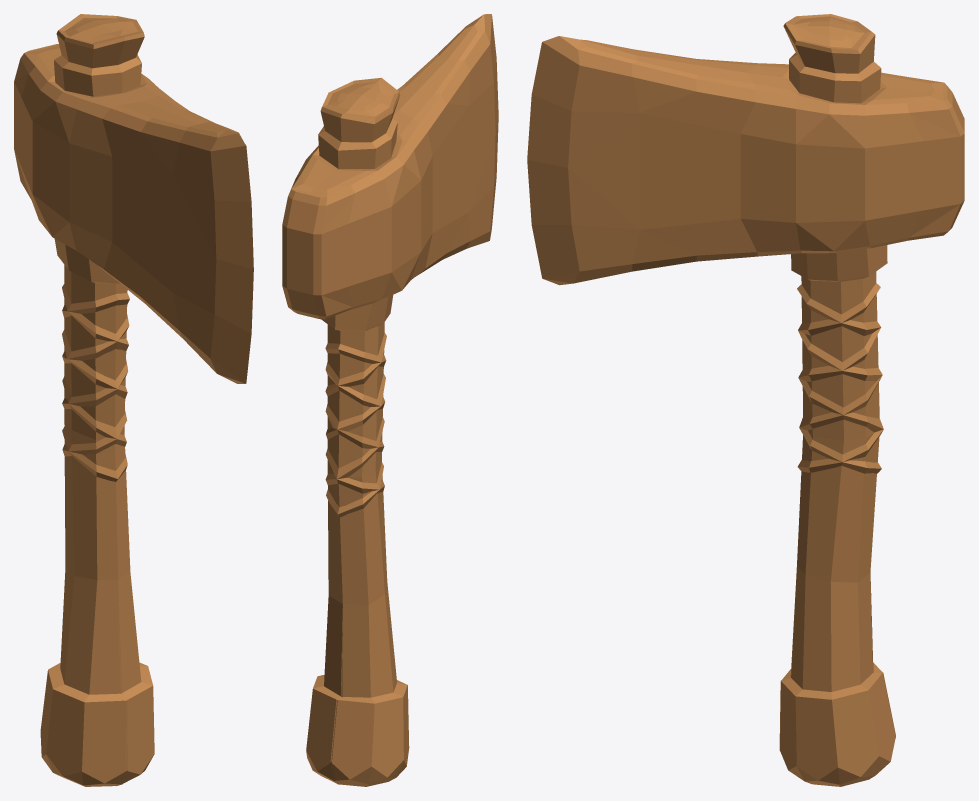
The model's file is Copper_Axe_Flat.fbx.
3 renders of one model, left to right at view 1: azimuth 30°, elevation 25°; view 2: azimuth 150°, elevation 25°; view 3: azimuth 270°, elevation 25°, orthographic. The views are drawn at different scales.
Visible parts, largest first — view 1: Axe_Copper_Flat; view 2: Axe_Copper_Flat; view 3: Axe_Copper_Flat.
Part boxes in pixels (x1,y1,x2,y2): Axe_Copper_Flat: [14, 14, 253, 786]; Axe_Copper_Flat: [282, 14, 498, 786]; Axe_Copper_Flat: [527, 14, 964, 786].
Bounding box in the file's own units: 0.2857 × 2 × 1.06.
